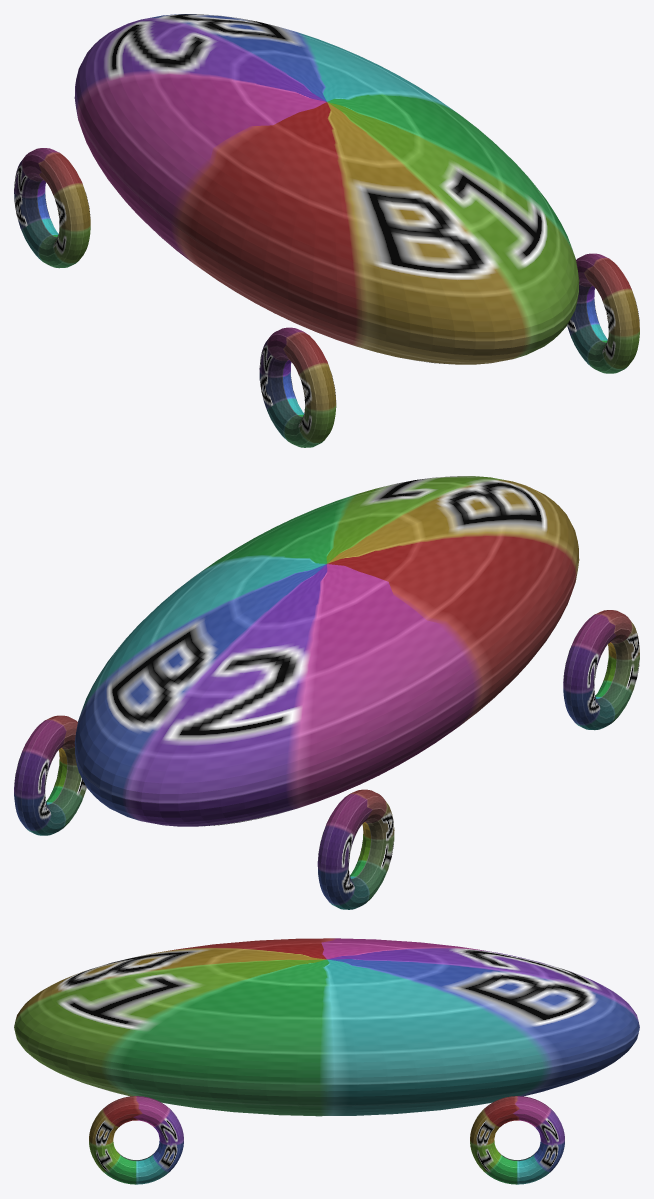
File: lod-pipeline-fixture-lod0.glb
3 renders of one model, top to bottom at view 1: azimuth 30°, elevation 25°; view 2: azimuth 150°, elevation 25°; view 3: azimuth 270°, elevation 25°, orthographic. The views are drawn at different scales.
Visible parts, largest first — view 1: Traffic_body, Traffic_FL, Traffic_RL, Traffic_FR; view 2: Traffic_body, Traffic_FL, Traffic_RL, Traffic_RR; view 3: Traffic_body, Traffic_FR, Traffic_RR.
Part boxes in pixels (x1,y1,x2,y2): Traffic_body: (74,14,579,364); Traffic_FL: (259,327,336,447); Traffic_RL: (14,148,90,268); Traffic_FR: (567,253,639,373); Traffic_body: (74,476,579,826); Traffic_FL: (563,610,639,730); Traffic_RL: (317,789,394,909); Traffic_RR: (14,715,86,835); Traffic_body: (14,938,639,1116); Traffic_FR: (89,1096,183,1184); Traffic_RR: (470,1096,564,1184).
Bounding box in the file's own units: 2.18 × 1.35 × 4.6.
1 material, 1 textured.
